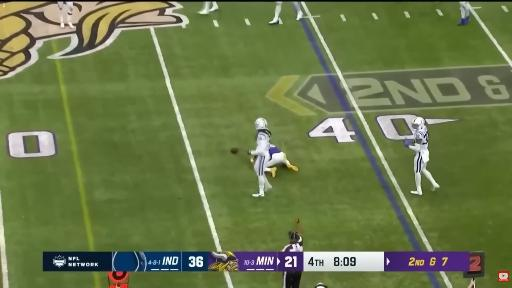Helmet: (412, 117, 425, 128), (255, 118, 267, 129)
Jersey: (256, 130, 271, 155), (415, 126, 428, 150), (269, 144, 281, 158)
Player: (404, 117, 439, 195), (248, 118, 271, 196), (265, 144, 298, 177), (58, 2, 73, 28), (269, 2, 282, 24), (458, 2, 470, 25), (198, 2, 218, 14)
